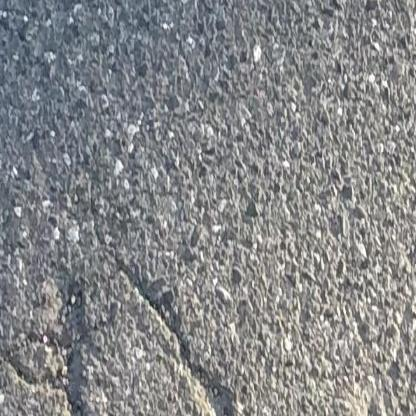Cracks: (0, 283, 126, 416)
